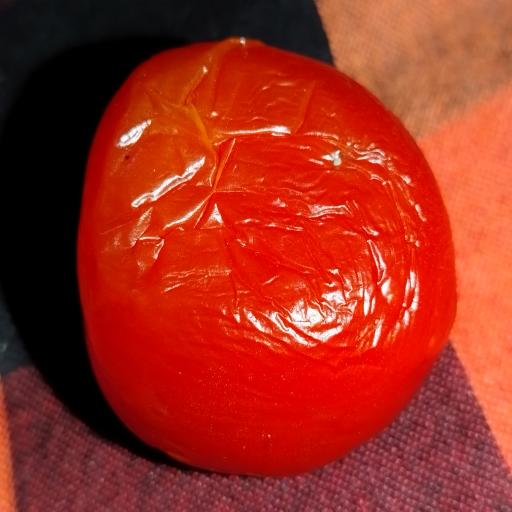spoiled: (78, 38, 456, 475)
